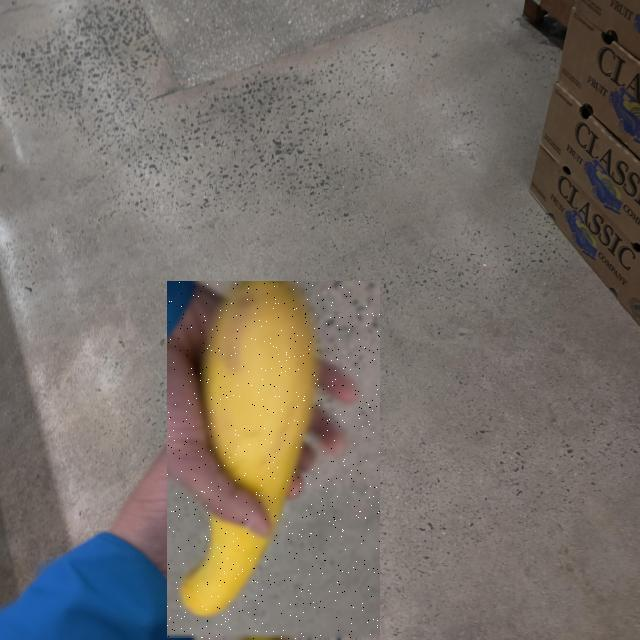Squash: (167, 282, 380, 640)
